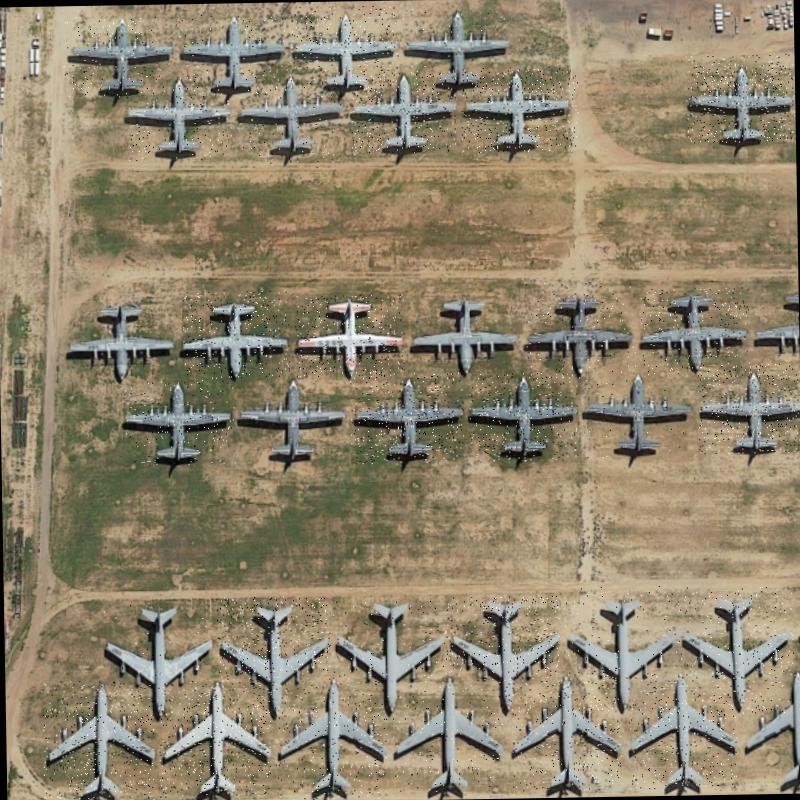A14: (678, 585, 796, 714), (564, 584, 680, 714), (274, 670, 388, 800), (216, 595, 332, 722), (391, 669, 505, 793), (98, 600, 214, 719), (511, 667, 622, 791), (42, 679, 155, 800), (158, 680, 271, 798), (332, 599, 446, 715), (444, 596, 560, 710), (628, 671, 738, 789)
A2: (408, 280, 522, 378), (524, 281, 636, 379), (350, 372, 465, 465), (461, 66, 578, 153), (235, 376, 348, 465), (182, 290, 290, 383), (122, 379, 236, 466), (685, 53, 795, 143), (469, 372, 578, 462), (238, 72, 344, 164), (290, 5, 399, 94), (581, 371, 691, 458), (403, 6, 512, 93), (60, 303, 176, 384), (697, 363, 800, 454), (294, 294, 404, 379), (640, 287, 750, 372), (125, 74, 232, 161), (178, 12, 288, 96), (62, 13, 170, 98), (349, 70, 457, 155)
